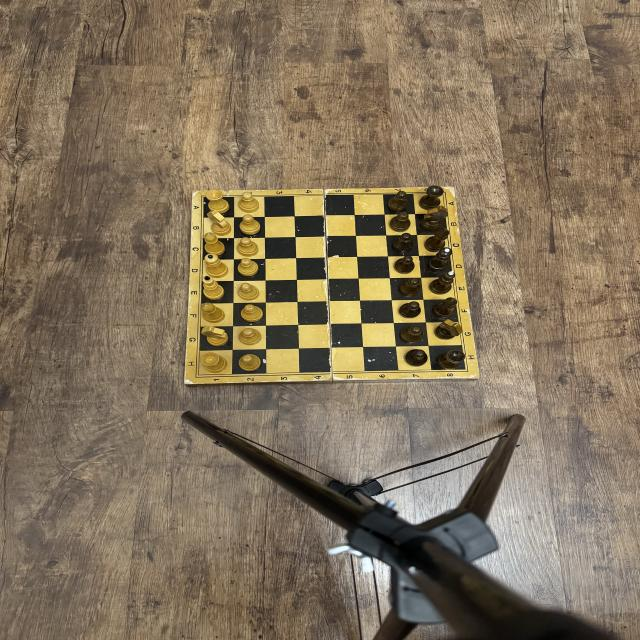black-bishop: (424, 228, 449, 252), (432, 297, 458, 318)
black-king: (428, 270, 456, 295)
black-knight: (420, 205, 448, 232), (435, 318, 463, 341)
black-pawn: (399, 324, 424, 344), (398, 301, 422, 319), (404, 349, 428, 367), (388, 191, 408, 212), (392, 232, 413, 252), (390, 212, 410, 232), (399, 278, 421, 296), (394, 256, 415, 274)
black-queen: (427, 247, 452, 272)
black-rook: (436, 349, 466, 370), (419, 185, 444, 210)
white-bishop: (200, 302, 226, 324), (203, 232, 226, 256)
white-king: (202, 275, 226, 300)
white-knight: (206, 210, 232, 236), (201, 326, 229, 347)
white-pawn: (239, 303, 264, 323), (238, 191, 260, 213), (239, 214, 261, 236), (237, 237, 259, 257), (238, 354, 262, 372), (238, 328, 262, 345), (237, 258, 259, 276), (238, 282, 260, 300)
white-queen: (204, 254, 228, 278)
white-rook: (201, 352, 228, 373), (206, 190, 230, 213)
